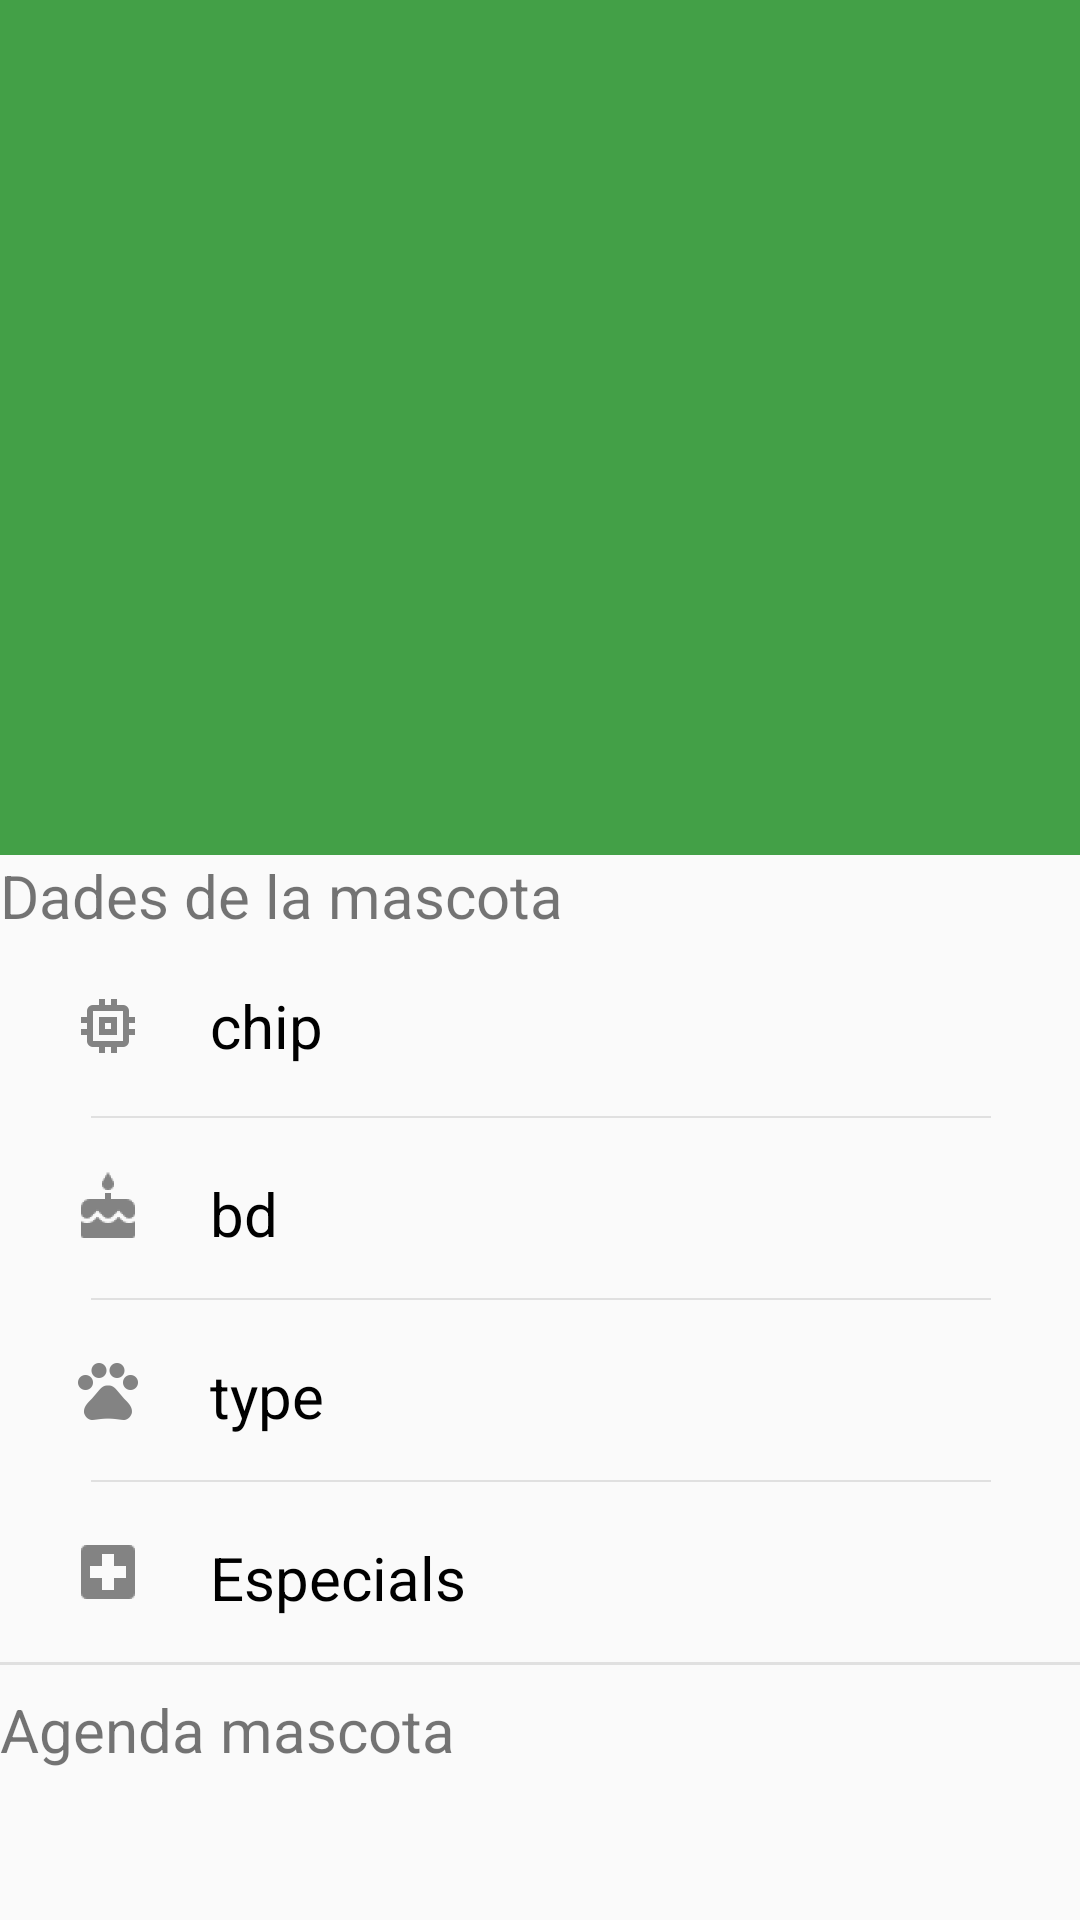

Where to tap for icons on this 1080 × 1920 app screen, as (x,y):
Aniversari: (108,1205)
Xip: (108,1026)
